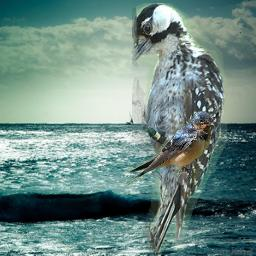Swallow: (124, 111, 216, 188)
Woodpecker: (132, 3, 227, 256)
